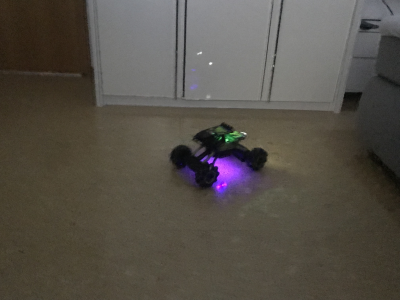remote control car: (166, 118, 270, 189)
